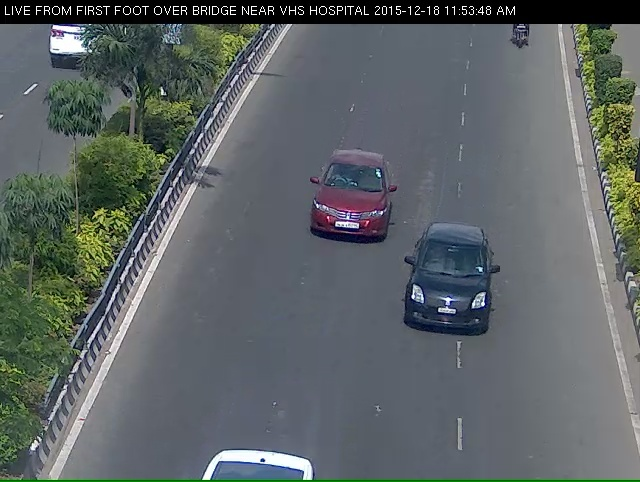Car: (398, 243, 494, 355), (295, 151, 391, 257)
Person: (501, 19, 538, 62)
